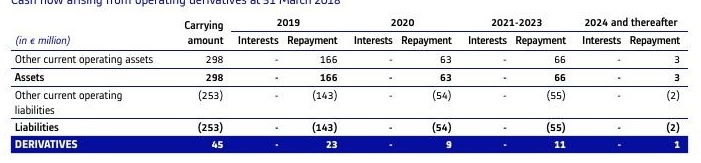table: (0, 0, 701, 163)
